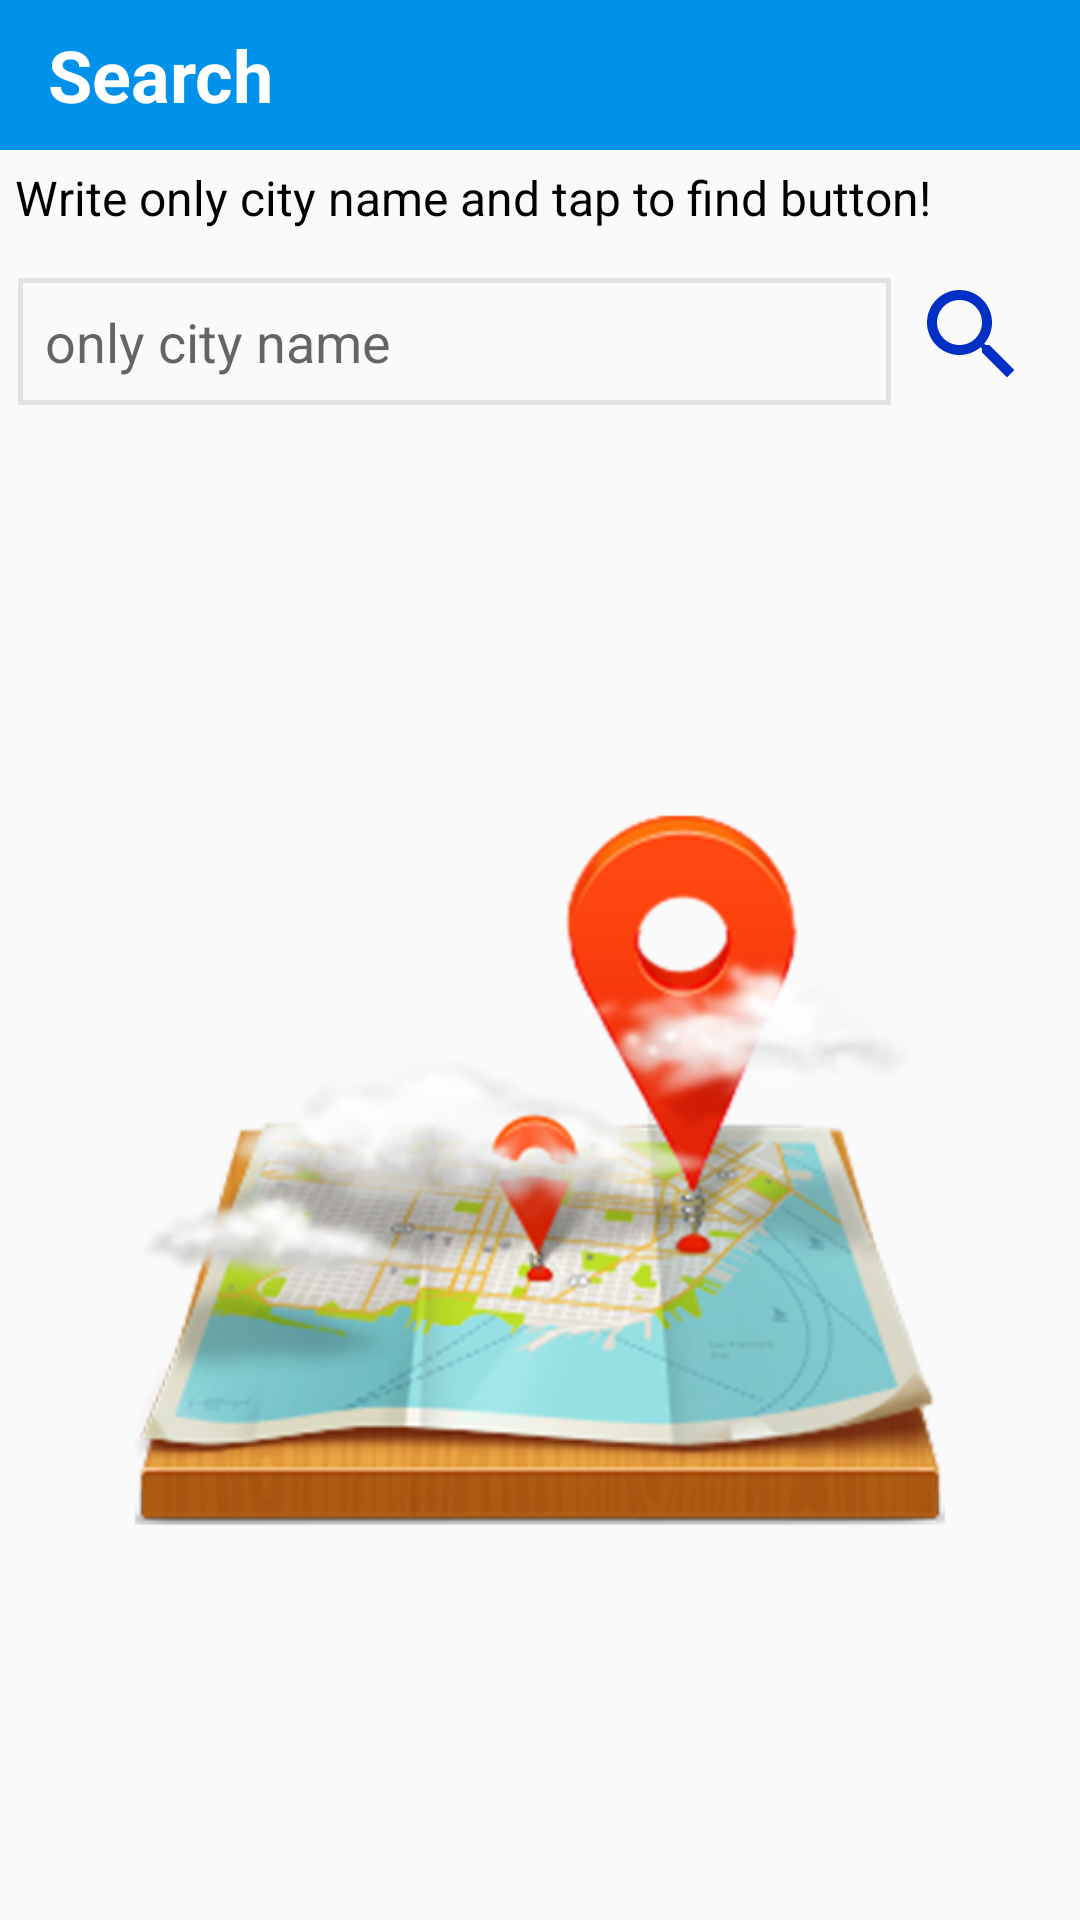

Named icons in this screenshot (1080x1920) and their centers, (x=x, y=y):
search: (x=970, y=333)
